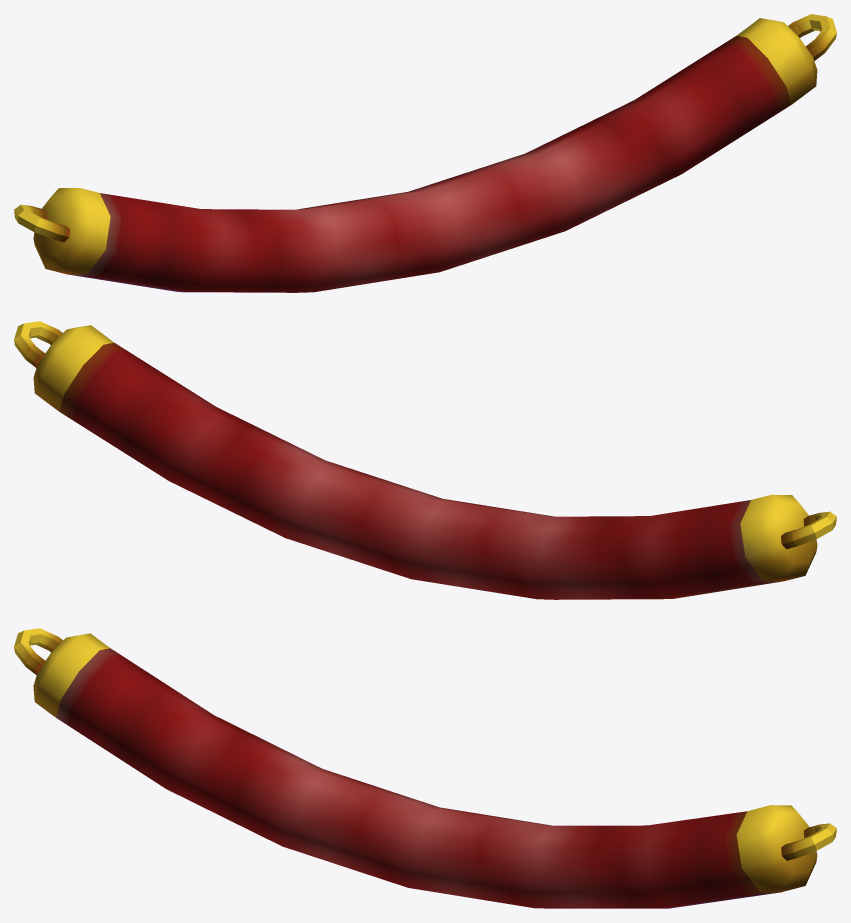
The model's file is fence_0378x05.obj.
The picture shows the model from 3 angles, top to bottom: view 1: azimuth 30°, elevation 25°; view 2: azimuth 150°, elevation 25°; view 3: azimuth 330°, elevation 25°; orthographic projection.
Visible parts, largest first — view 1: Rope_Red.001; view 2: Rope_Red.001; view 3: Rope_Red.001.
Part boxes in pixels (x1,y1,x2,y2): Rope_Red.001: (14, 14, 836, 292); Rope_Red.001: (14, 321, 836, 599); Rope_Red.001: (14, 628, 836, 908).
Size of the model in its own units: 2.74 by 0.5411 by 0.2604.
